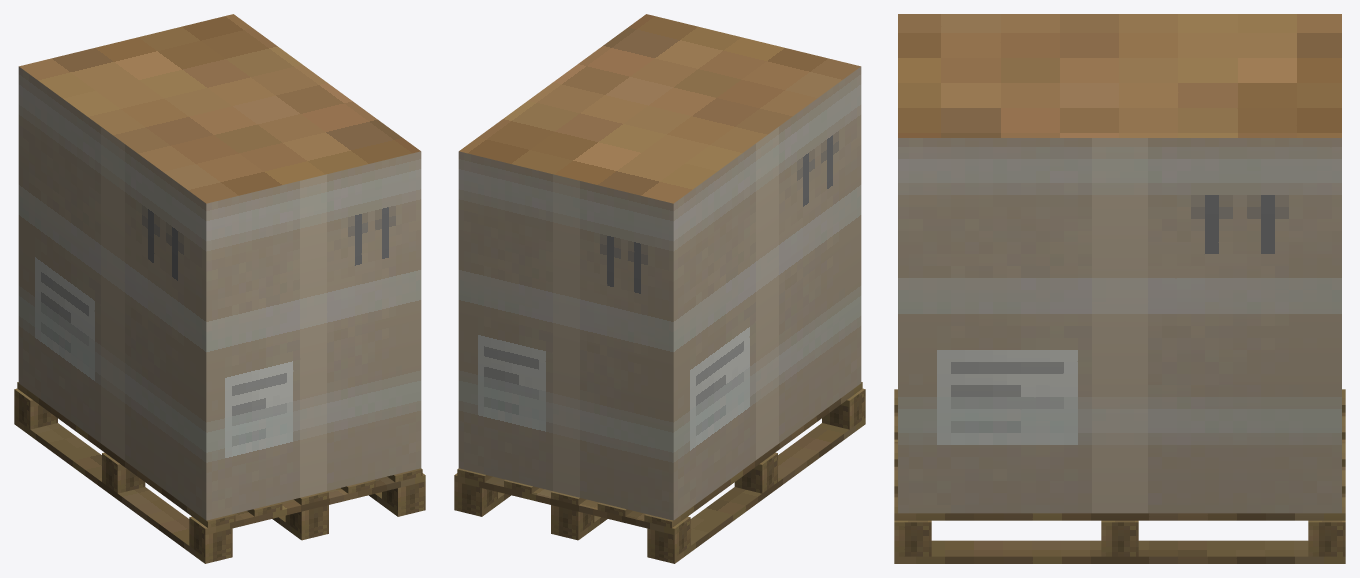
Rendered from pallet_wrapped.glb.
The picture shows the model from 3 angles, left to right: view 1: azimuth 30°, elevation 25°; view 2: azimuth 150°, elevation 25°; view 3: azimuth 270°, elevation 25°; orthographic projection. The views are drawn at different scales.
Parts seen in each view (by area): view 1: pallet_wrapped; view 2: pallet_wrapped; view 3: pallet_wrapped.
Boxes of the visible parts, left/top/right/bottom form: pallet_wrapped: left=14, top=14, right=425, bottom=563; pallet_wrapped: left=454, top=14, right=865, bottom=563; pallet_wrapped: left=894, top=14, right=1345, bottom=563.
Bounding box in the file's own units: 0.8 × 1.24 × 1.2.
1 material, 1 textured.
